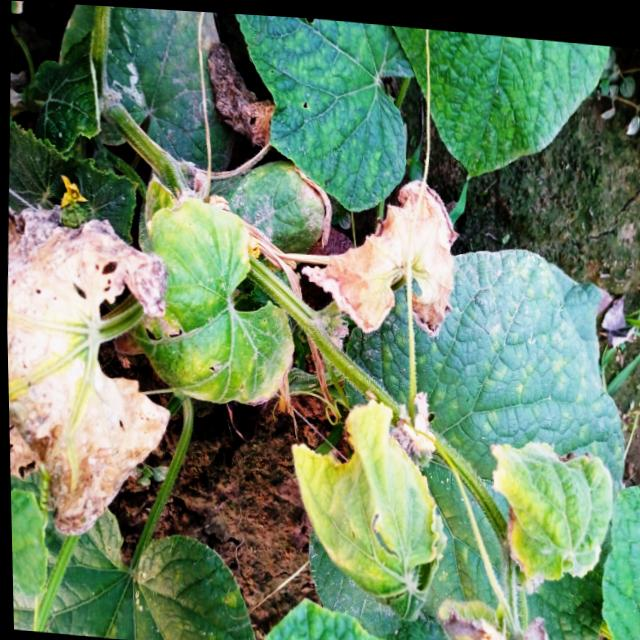Bacterial-Wilt: (6, 200, 169, 537), (288, 392, 446, 617), (299, 172, 457, 332)
